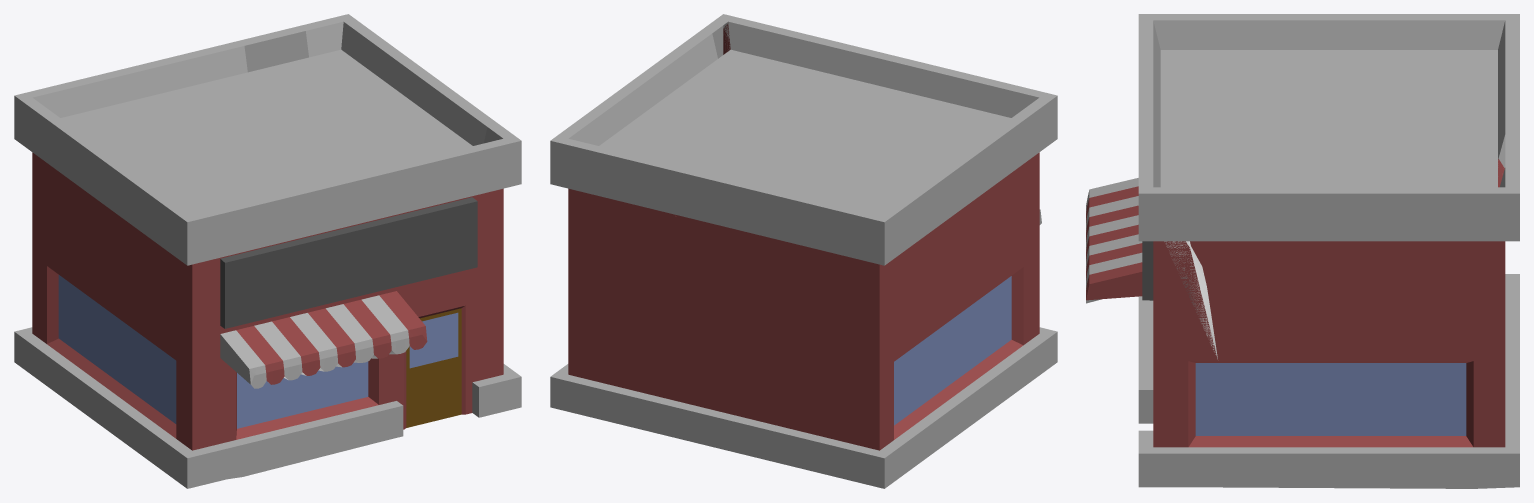
Rendered from Final Store Shatter.fbx.
3 views of the same model, side by side, from view 1: azimuth 30°, elevation 25°; view 2: azimuth 150°, elevation 25°; view 3: azimuth 270°, elevation 25° (orthographic). The views are drawn at different scales.
Visible parts, largest first — view 1: polySurface7, polySurface6, polySurface5, polySurface9; view 2: polySurface9, polySurface5, polySurface7, polySurface6, polySurface10; view 3: polySurface5, polySurface10, polySurface6, polySurface7, polySurface9.
Part boxes in pixels (bbox=[...]): polySurface7: bbox=[52, 121, 521, 488]; polySurface6: bbox=[120, 143, 521, 349]; polySurface5: bbox=[137, 14, 521, 164]; polySurface9: bbox=[14, 65, 182, 406]; polySurface9: bbox=[602, 180, 946, 488]; polySurface5: bbox=[550, 14, 897, 245]; polySurface7: bbox=[836, 136, 1057, 443]; polySurface6: bbox=[723, 16, 1057, 166]; polySurface10: bbox=[550, 237, 711, 446]; polySurface5: bbox=[1138, 76, 1519, 377]; polySurface10: bbox=[1272, 306, 1519, 488]; polySurface6: bbox=[1086, 14, 1332, 412]; polySurface7: bbox=[1086, 14, 1435, 487]; polySurface9: bbox=[1397, 14, 1519, 377].
Bounding box in the file's own units: 580 × 445 × 592.
